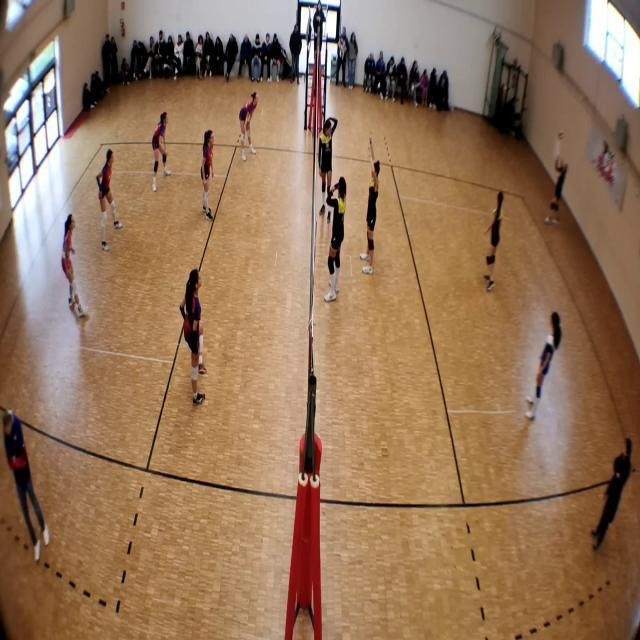volleyball: (559, 131, 565, 139)
